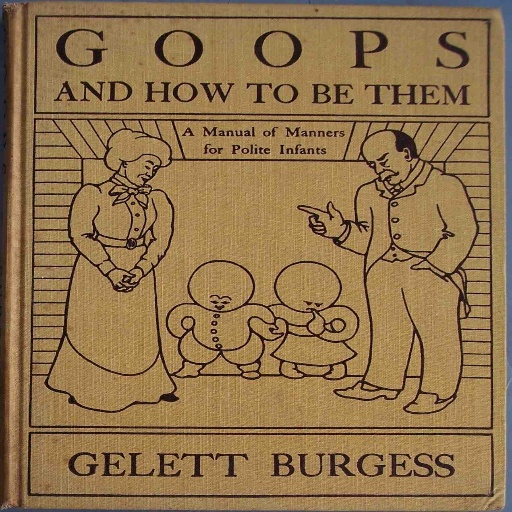hand: (298, 199, 361, 239), (105, 265, 136, 292), (250, 316, 284, 339), (412, 258, 449, 279), (310, 308, 324, 335), (123, 266, 145, 283)
